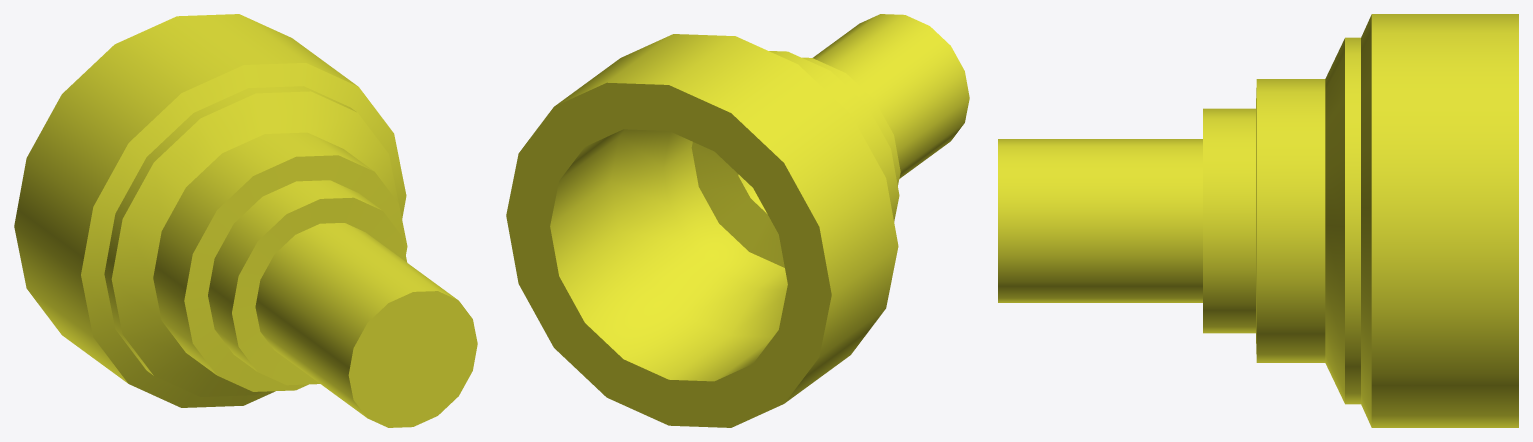
Rendered from Propulsor.fbx.
The picture shows the model from 3 angles, left to right: view 1: azimuth 30°, elevation 25°; view 2: azimuth 150°, elevation 25°; view 3: azimuth 270°, elevation 25°; orthographic projection. The views are drawn at different scales.
Parts seen in each view (by area): view 1: propulsor; view 2: propulsor; view 3: propulsor.
Part boxes in pixels (bbox=[...]): propulsor: bbox=[14, 14, 477, 427]; propulsor: bbox=[506, 14, 969, 427]; propulsor: bbox=[998, 14, 1518, 427].
Size of the model in its own units: 1465 by 1465 by 1841.
